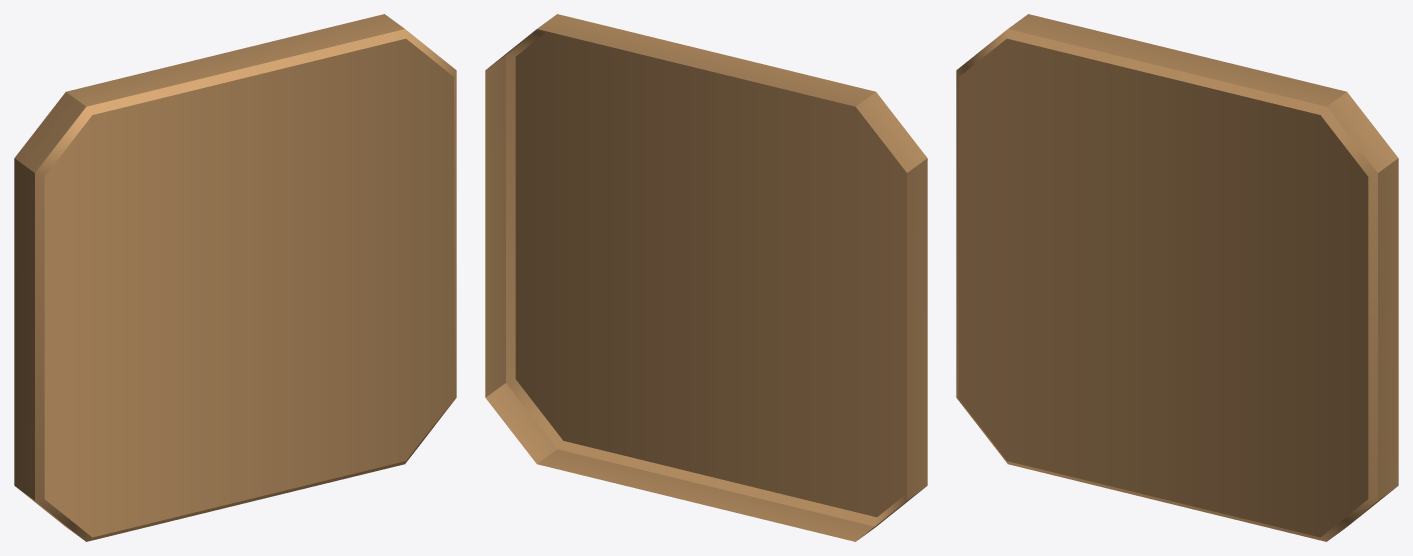
The model's file is base_altimetro_V2.fbx.
3 renders of one model, left to right at view 1: azimuth 30°, elevation 25°; view 2: azimuth 150°, elevation 25°; view 3: azimuth 330°, elevation 25°, orthographic.
Parts seen in each view (by area): view 1: base_altimetro1; view 2: base_altimetro1; view 3: base_altimetro1.
Boxes of the visible parts, left/top/right/bottom form: base_altimetro1: left=14, top=14, right=456, bottom=541; base_altimetro1: left=485, top=14, right=927, bottom=541; base_altimetro1: left=956, top=14, right=1398, bottom=541.
Bounding box in the file's own units: 20.28 × 20 × 2.
